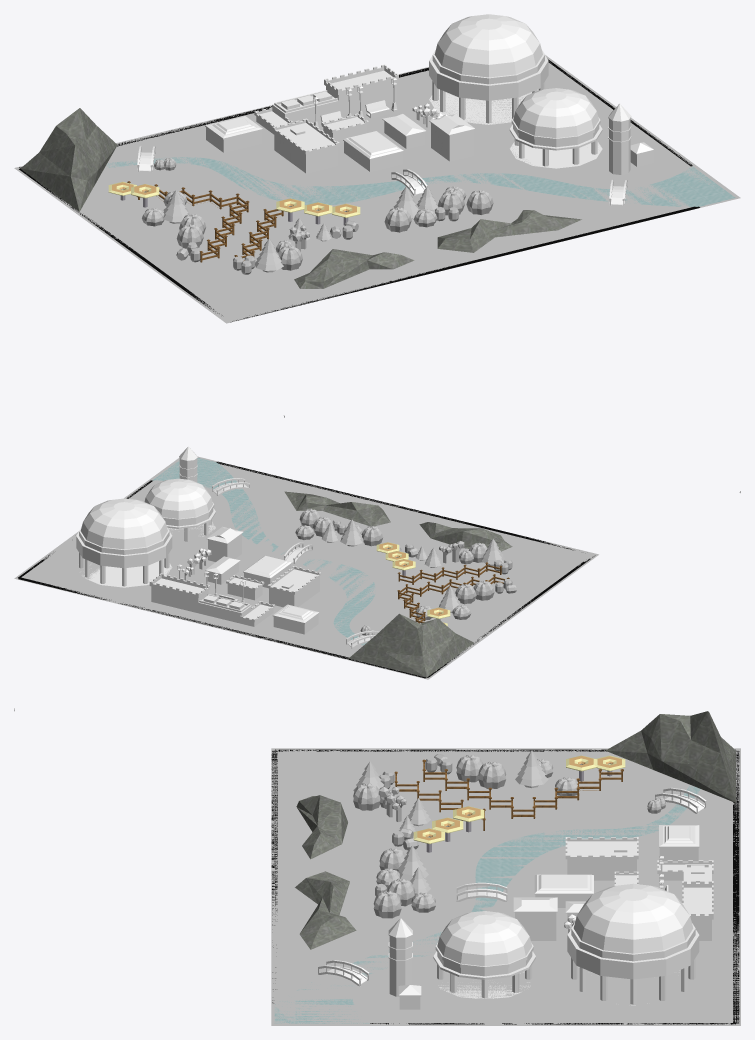
The model's file is 场景模型1201.FBX.
3 renders of one model, top to bottom at view 1: azimuth 30°, elevation 25°; view 2: azimuth 150°, elevation 25°; view 3: azimuth 270°, elevation 25°, orthographic. The views are drawn at different scales.
Parts seen in each view (by area): view 1: Plane001, Group80, Group67, Group6, Group73, Group69, Group71, Group4, Group75, Group5, Group72, Group76 (+11 smaller); view 2: Plane001, Group80, Group6, Group67, Group73, Group69, Group71, Group4, Group75, Group5, Group68, Group74 (+10 smaller); view 3: Plane001, Group80, Group6, Group67, Group69, Group71, Group4, Group75, Group73, Group5, Group72, Group33 (+15 smaller).
Part boxes in pixels (box(x1,y1,x2,y2)): Plane001: box(14, 55, 740, 323); Group80: box(19, 59, 735, 322); Group67: box(434, 14, 542, 77); Group6: box(20, 108, 117, 211); Group73: box(254, 64, 398, 134); Group69: box(429, 49, 548, 123); Group71: box(513, 88, 598, 138); Group4: box(437, 210, 581, 252); Group75: box(272, 118, 339, 173); Group5: box(294, 249, 414, 288); Group72: box(509, 117, 602, 166); Group76: box(343, 131, 403, 171); Plane001: box(14, 456, 598, 679); Group80: box(18, 458, 595, 678); Group6: box(348, 613, 473, 677); Group67: box(80, 498, 167, 549); Group73: box(149, 573, 275, 626); Group69: box(76, 527, 172, 586); Group71: box(144, 478, 212, 518); Group4: box(284, 491, 390, 526); Group75: box(267, 566, 321, 607); Group5: box(419, 522, 512, 551); Group68: box(82, 559, 172, 587); Group74: box(272, 604, 319, 634); Plane001: box(271, 748, 740, 1025); Group80: box(271, 749, 739, 1024); Group6: box(605, 711, 735, 802); Group67: box(573, 883, 693, 953); Group69: box(567, 923, 699, 1004); Group71: box(437, 911, 531, 966); Group4: box(295, 871, 356, 949); Group75: box(565, 837, 638, 880); Group73: box(657, 860, 713, 940); Group5: box(296, 795, 347, 859); Group72: box(433, 943, 535, 998); Group33: box(353, 755, 506, 810).
Size of the model in its own units: 904 by 118 by 897.
